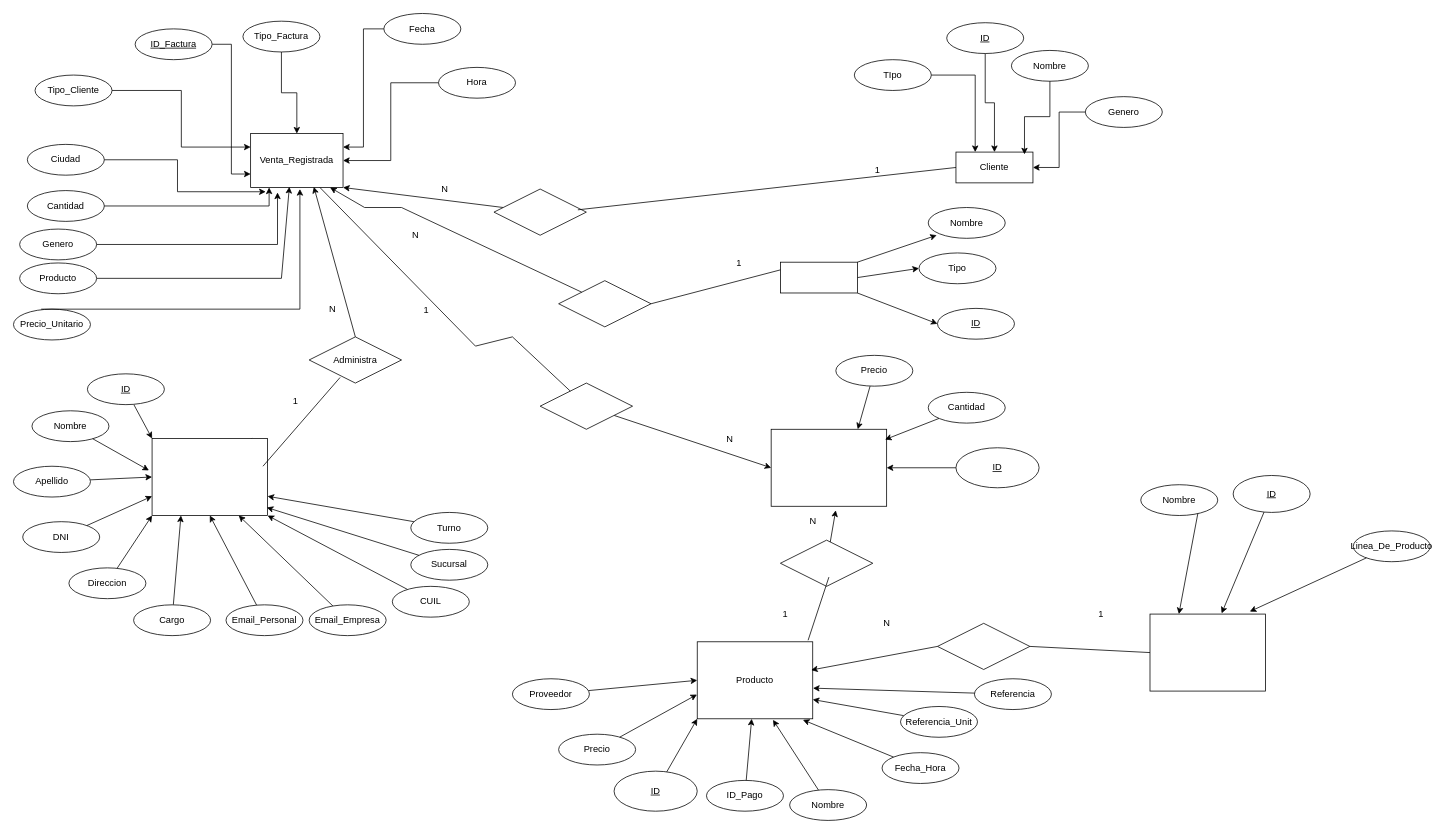
Image size: 1446x834. Some labels were removed from this diagram. The centre of each missing label's shape, as x and y in pixels:
"Categoria" belongs at (1207,652).
"Detalle_Venta" belongs at (828,467).
"Empleado" belongs at (209,477).
"Medio_Pago" belongs at (818,277).
"Opera" belongs at (826,562).
"Realiza" belongs at (604,303).
"Registra" belongs at (586,405).
"Se_Identifica" belongs at (983,646).
"Tiene" belongs at (539,211).
